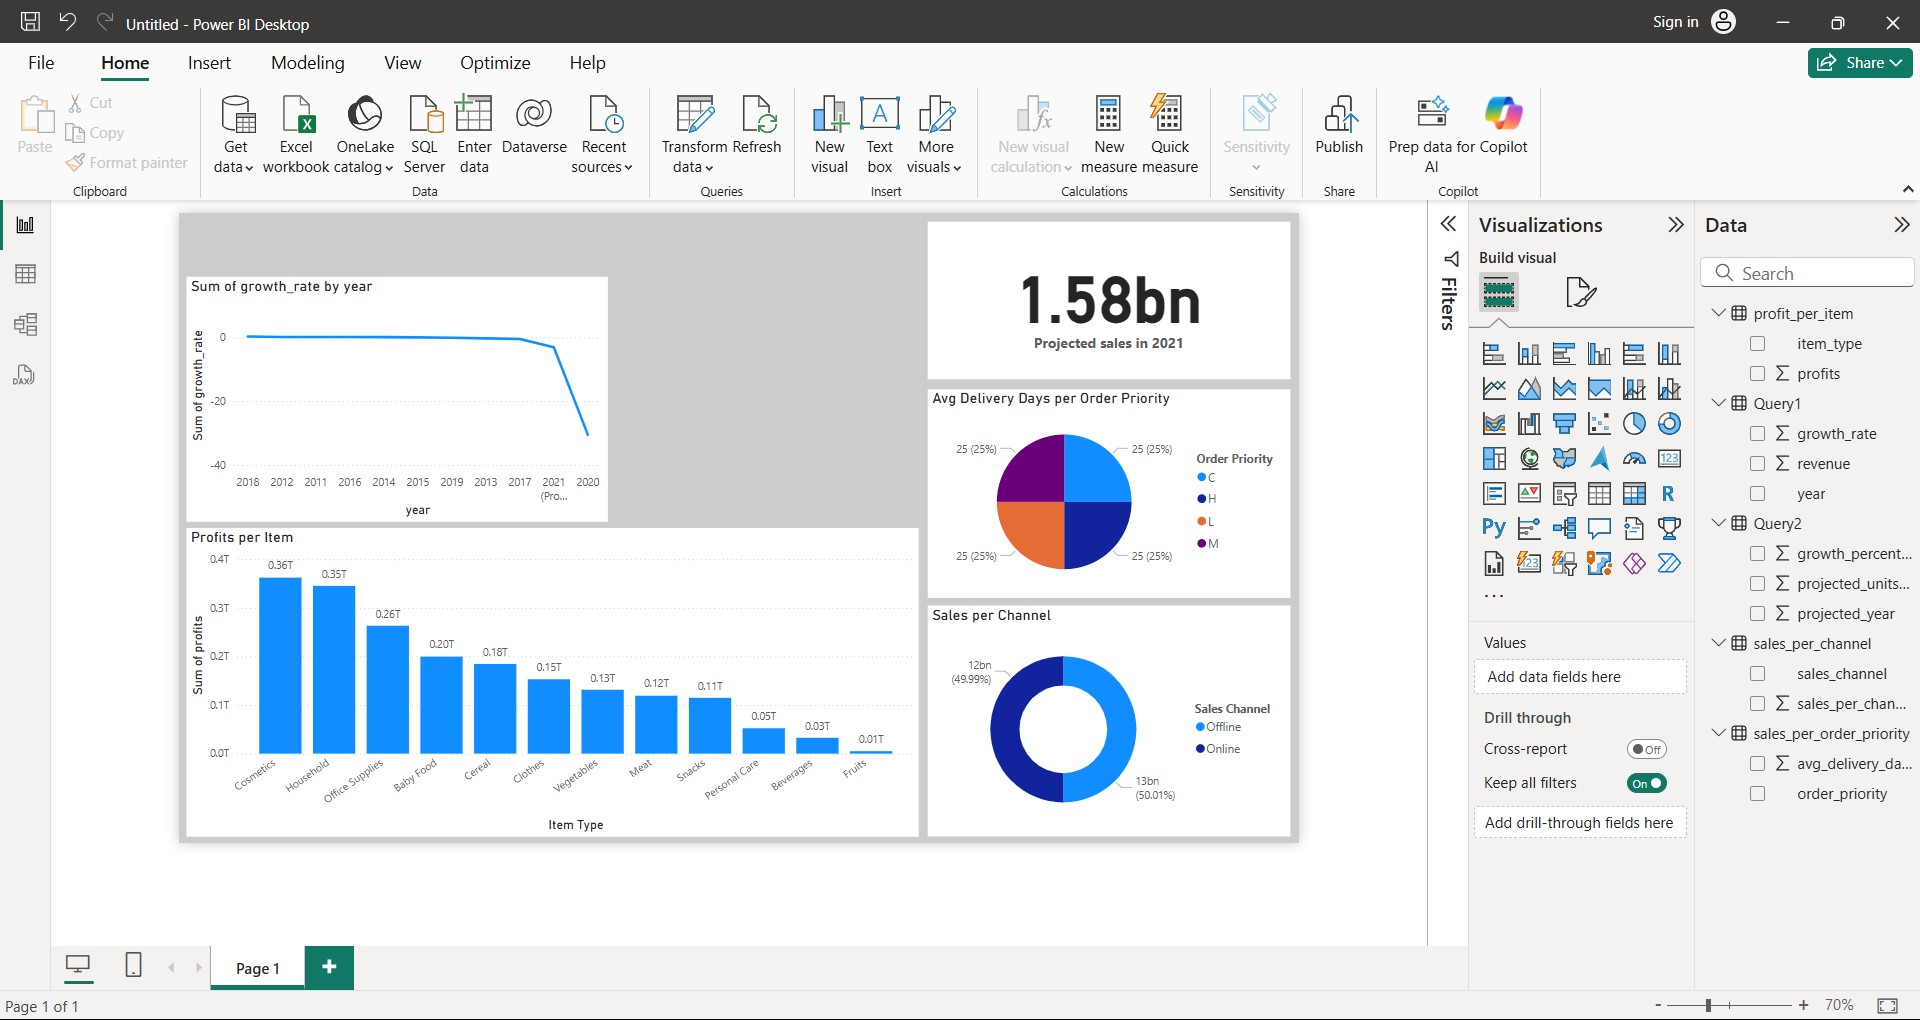

What the dashboard file says about the page in this screenshot:
{"tool":"powerbi","page":{"name":"Page 1","canvas":[1280,720],"ordinal":0},"visuals":[{"type":"clusteredColumnChart","title":"Profits per Item","fields":{"Category":["Query1.item_type"],"Y":["Sum(Query1.profits)"]},"box":[8.6,360,837.1,352.9],"z":0},{"type":"donutChart","title":"Sales per Channel","fields":{"Category":["sales_per_channel.sales_channel"],"Y":["Sum(sales_per_channel.sales_per_channel)"]},"box":[855.7,448.6,414.3,264.3],"z":1000},{"type":"pieChart","title":"Avg Delivery Days per Order Priority","fields":{"Category":["sales_per_order_priority.order_priority"],"Y":["Sum(sales_per_order_priority.avg_delivery_days)"]},"box":[855.7,201.4,414.3,238.6],"z":2000},{"type":"lineChart","fields":{"Category":["year_over_year_growth.year"],"Y":["Sum(year_over_year_growth.growth_rate)"]},"box":[8.6,25.7,837.1,327.1],"z":3000},{"type":"card","fields":{"Values":["Sum(Query2.projected_units_sold)"]},"box":[855.7,10,414.3,180],"z":4000}]}

Visuals, with their boxes on the page's 1280x720 design canvas (x1, y1, x2, y2). These are canvas units, not pixel positions in the 1920x1020 screenshot, which may show the page scaled, cropped or inside an application window:
"Profits per Item" clusteredColumnChart: [9,360,846,713]
"Sales per Channel" donutChart: [856,449,1270,713]
"Avg Delivery Days per Order Priority" pieChart: [856,201,1270,440]
lineChart - year_over_year_growth.year x Sum(year_over_year_growth.growth_rate): [9,26,846,353]
card - Sum(Query2.projected_units_sold): [856,10,1270,190]
